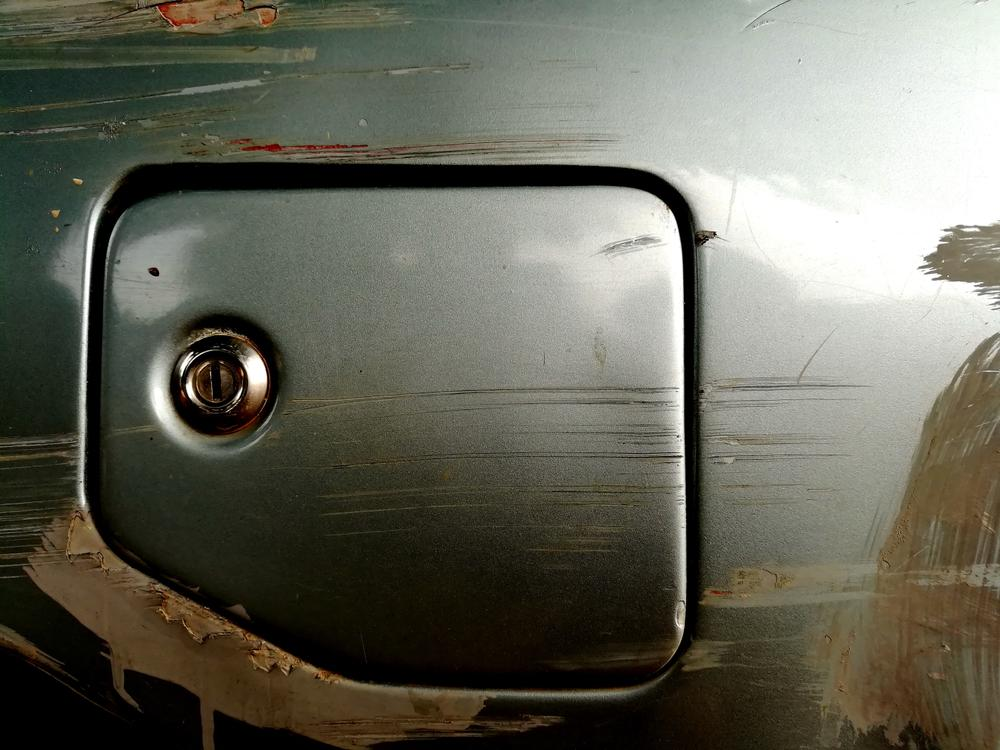scratch: (0, 431, 600, 750), (678, 224, 1000, 750), (0, 0, 666, 179), (275, 375, 686, 591)
